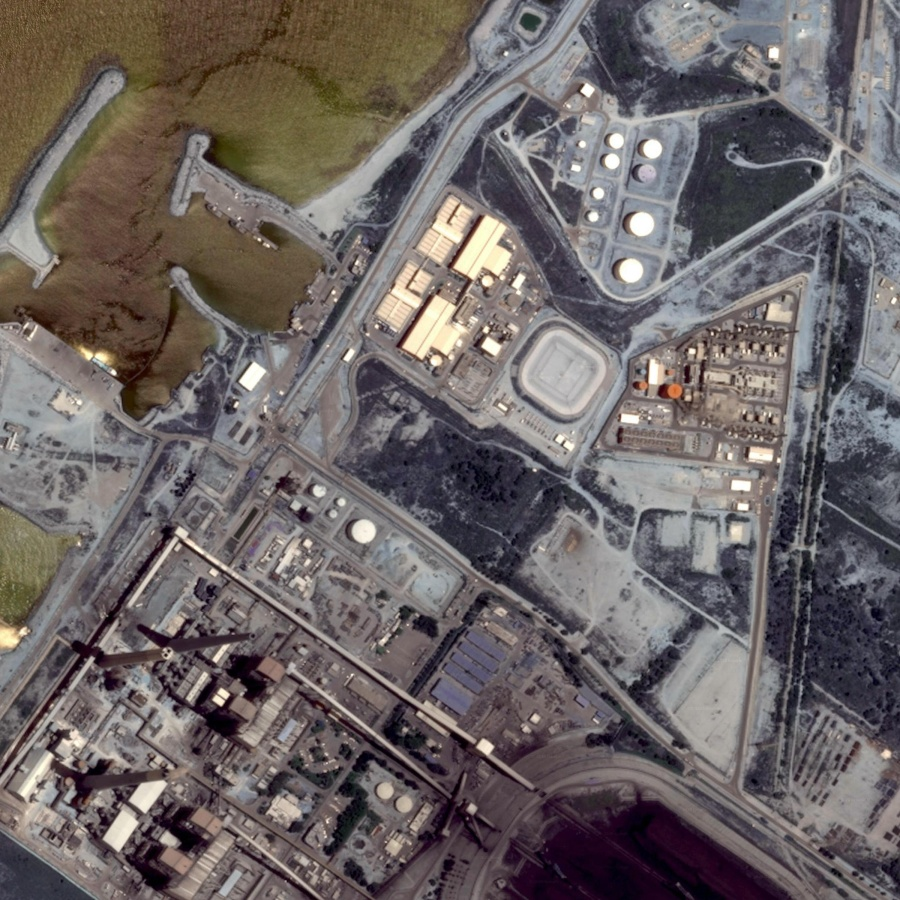PowerPlant: (502, 82, 735, 296)
